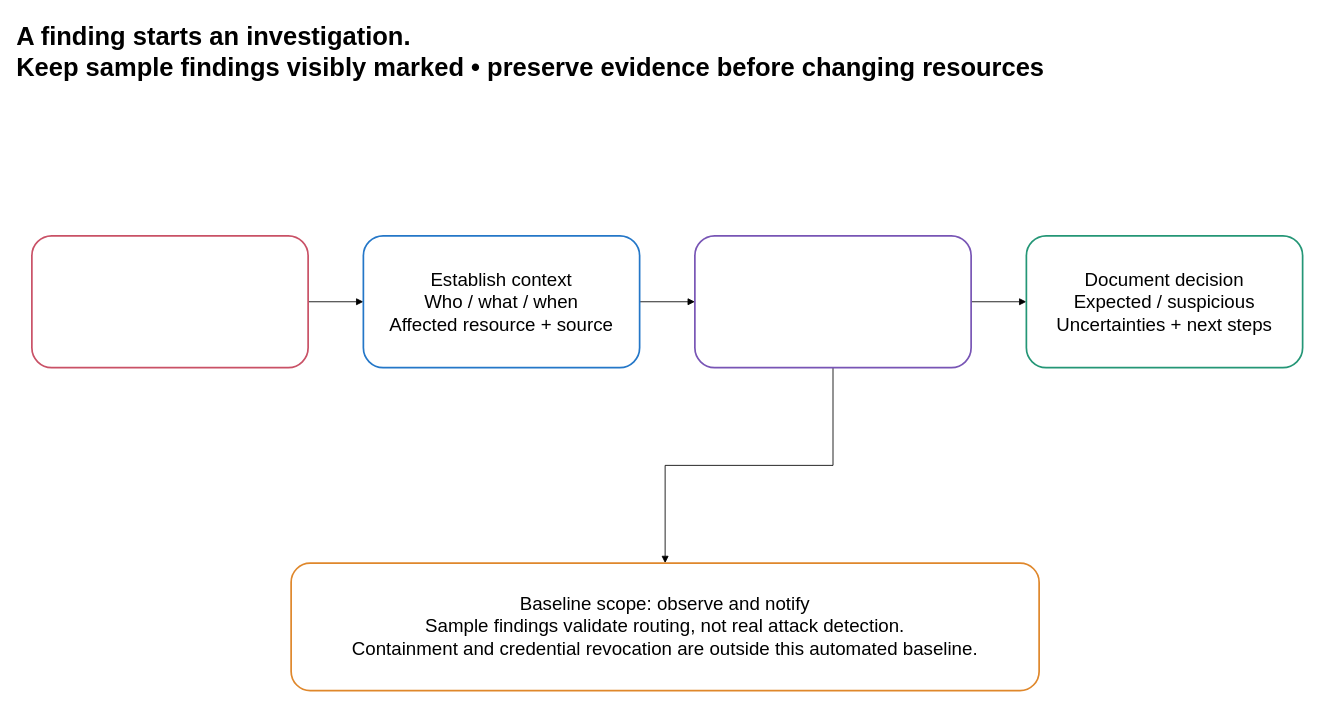
The diagram is 1329 pixels wide and 706 high, and some of its shapes have lost their labels. The shapes that lost their labels are listed below. From the top down, each one's centre as x and y in pixels, then its label:
At (x=170, y=301): "Receive notification Identify path and region Sample or real event?".
At (x=833, y=301): "Correlate evidence Authorized test or activity? CloudTrail + finding detail".
